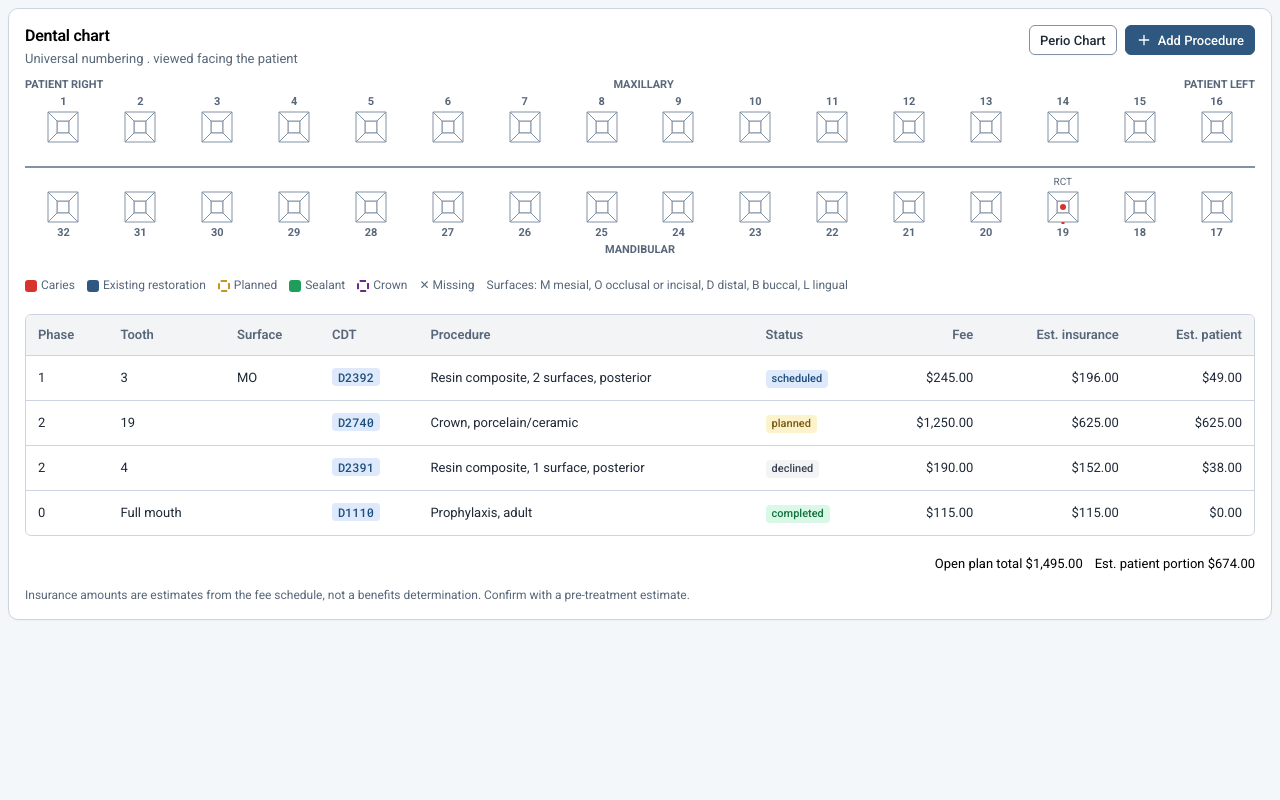
Test: DentalChart › selects and deselects a tooth and shows its findings and procedures
Click the button with aria-label "Tooth 19, Molar, Root canal".
click(1063, 208)  # box [1024, 172, 1101, 243]
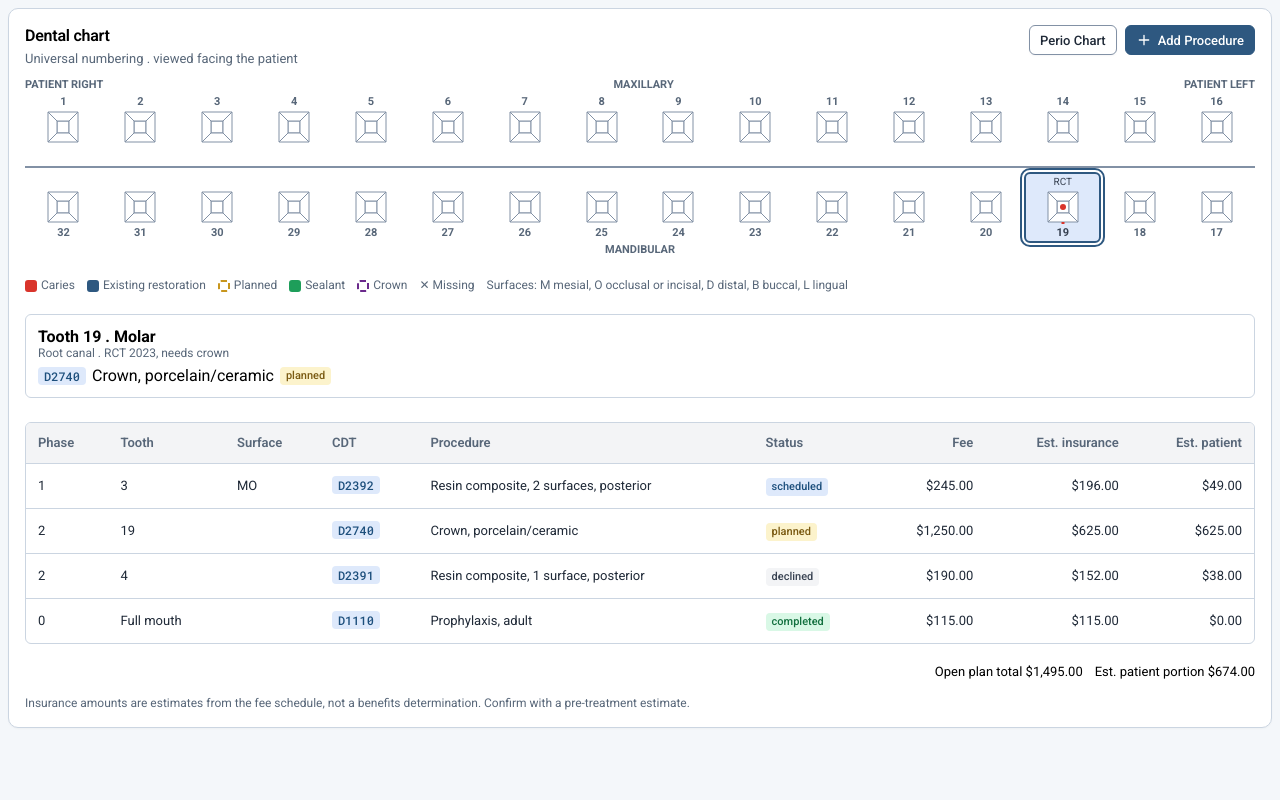
Result: the text "Tooth 19 . Molar" is shown at [38, 327, 156, 346]
Result: the text "Root canal . RCT 2023, needs crown" is shown at [38, 346, 229, 360]
Click the button with aria-label "Tooth 19, Molar, Root canal".
click(1063, 208)  # box [1024, 172, 1101, 243]
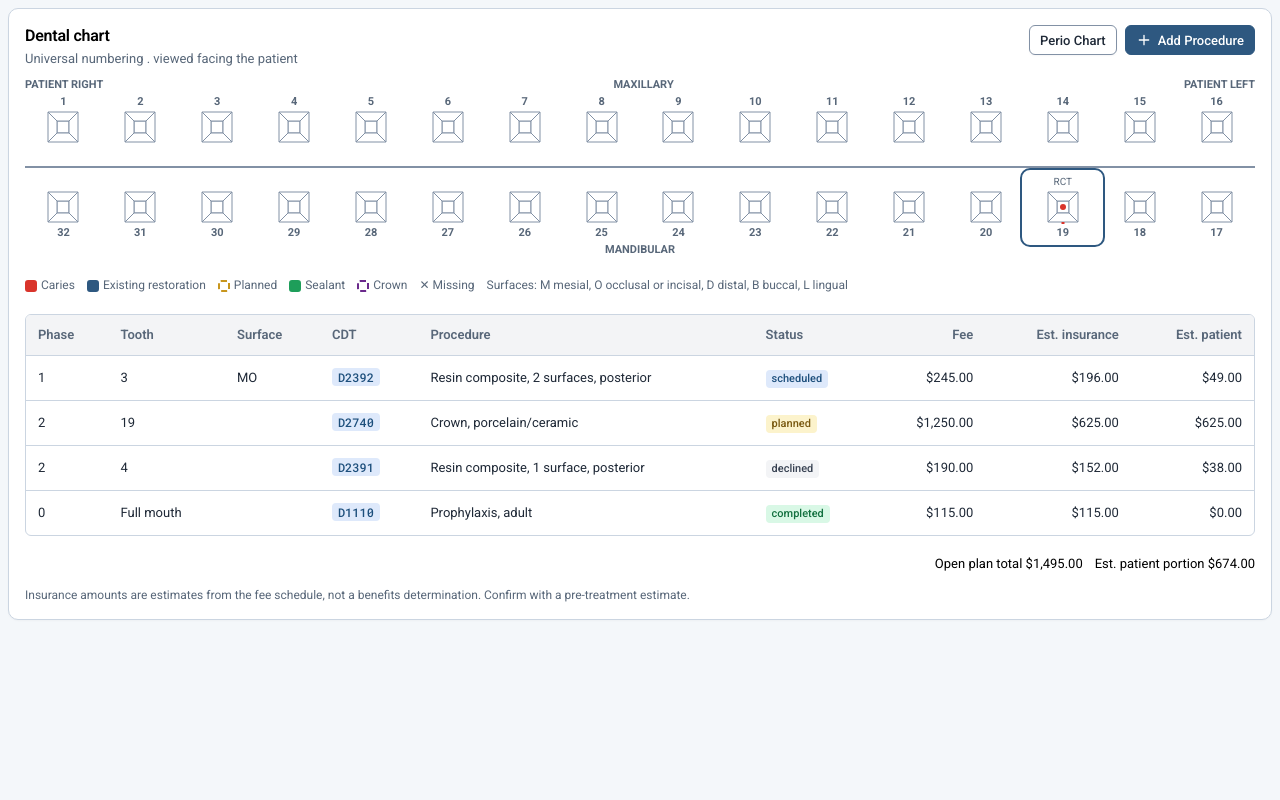
Result: the text "Tooth 19 . Molar" is gone
